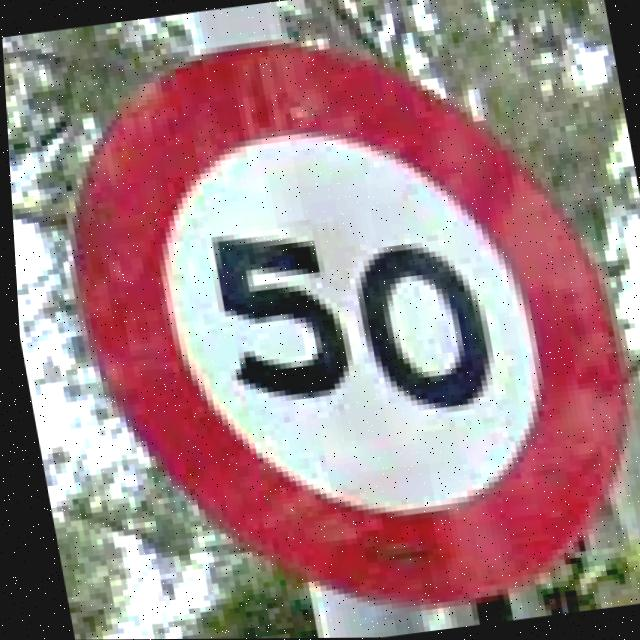max50: (23, 0, 640, 640)
